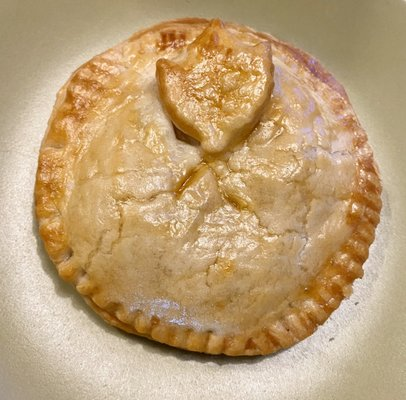sandwich: (33, 15, 395, 357)
